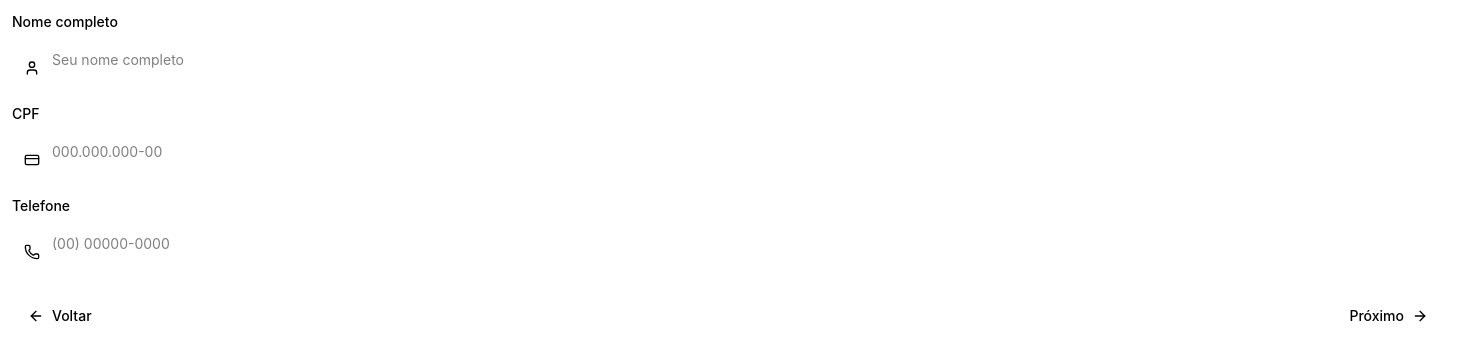
StepPersonalData › Phone masking › masks phone input as (00) 00000-0000
Type "21999887766" into the field labelled "Telefone".
click(732, 244); type("21999887766")  # box [12,224,1452,264]
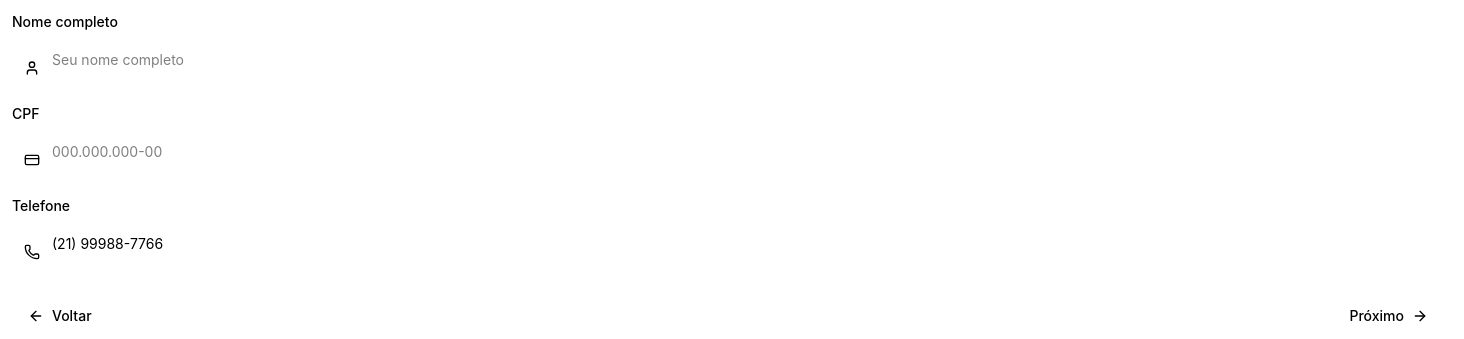
Expected: the field labelled "Telefone" holds "(21) 99988-7766", [12,224,1452,264]
